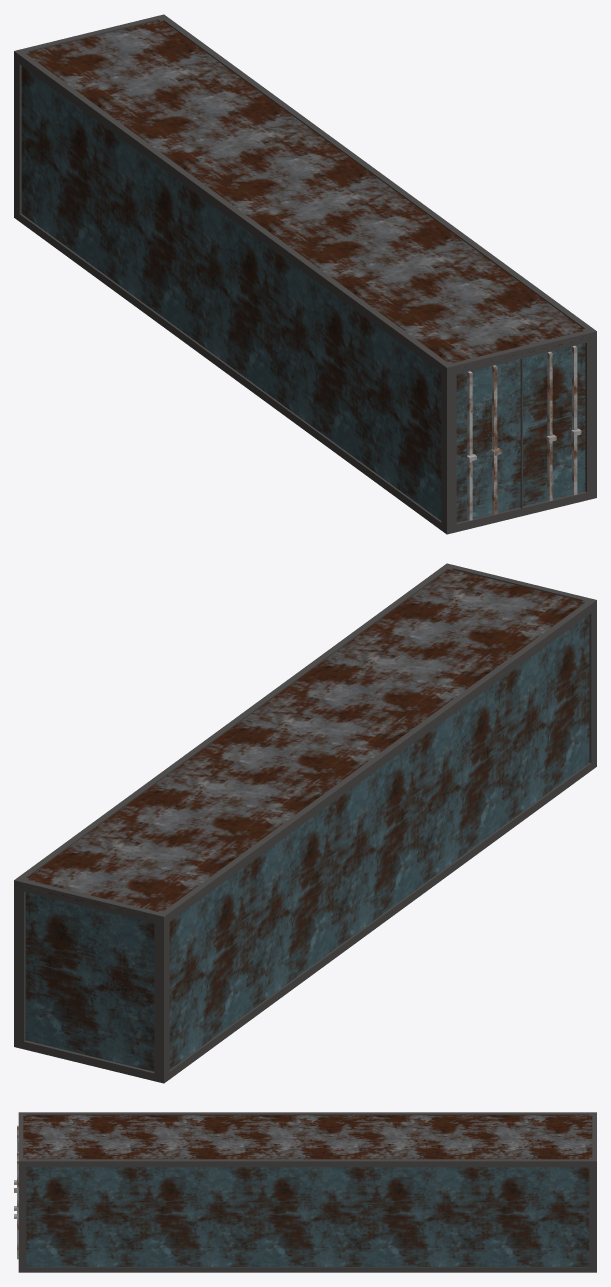
Rendered from container_40_azul.glb.
The picture shows the model from 3 angles, top to bottom: view 1: azimuth 30°, elevation 25°; view 2: azimuth 150°, elevation 25°; view 3: azimuth 270°, elevation 25°; orthographic projection. The views are drawn at different scales.
Visible parts, largest first — view 1: cont_azul; view 2: cont_azul; view 3: cont_azul.
Boxes of the visible parts, bbox=[...] form: cont_azul: bbox=[14, 14, 596, 534]; cont_azul: bbox=[14, 563, 596, 1083]; cont_azul: bbox=[14, 1112, 596, 1272].
Size of the model in its own units: 2.44 by 2.59 by 12.29.
4 materials, 3 textured.
